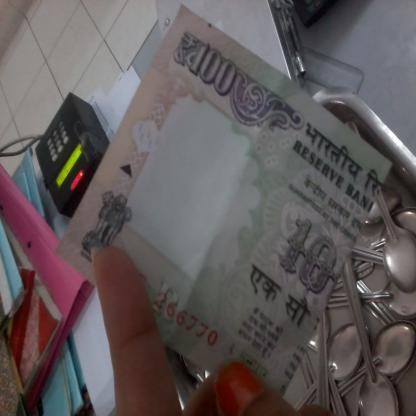Old100Front: (53, 1, 394, 400)
